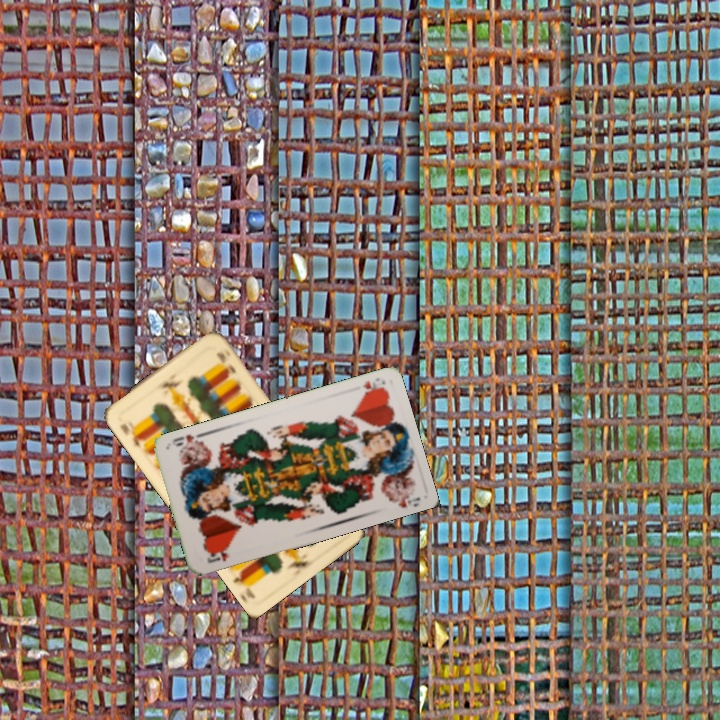E10: (116, 419, 147, 451)
HO: (358, 374, 387, 398), (203, 543, 233, 565)
